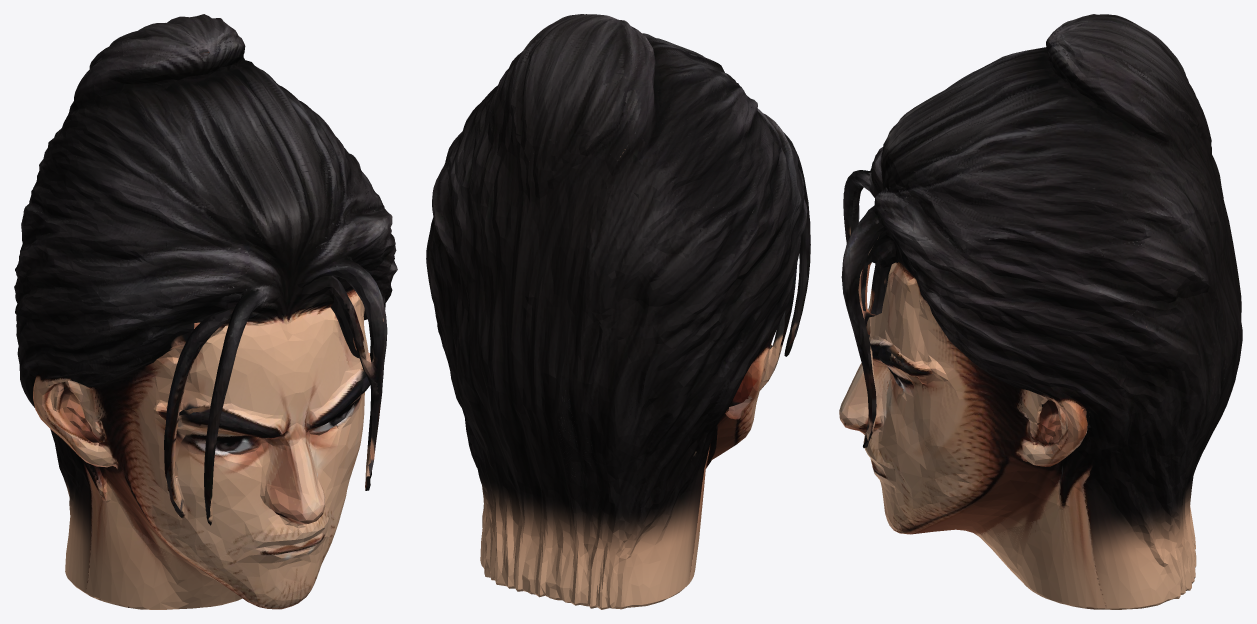
File: side_morishu_repaired_atlas.glb
3 renders of one model, left to right at view 1: azimuth 30°, elevation 25°; view 2: azimuth 150°, elevation 25°; view 3: azimuth 270°, elevation 25°, orthographic.
Parts seen in each view (by area): view 1: temp_mesh.ply; view 2: temp_mesh.ply; view 3: temp_mesh.ply.
Boxes of the visible parts, x1,y1,x2,y2 form: temp_mesh.ply: [14, 14, 397, 609]; temp_mesh.ply: [426, 14, 810, 609]; temp_mesh.ply: [839, 14, 1242, 609].
Size of the model in its own units: 0.8256 by 1.33 by 0.8983.
1 material, 1 textured.
